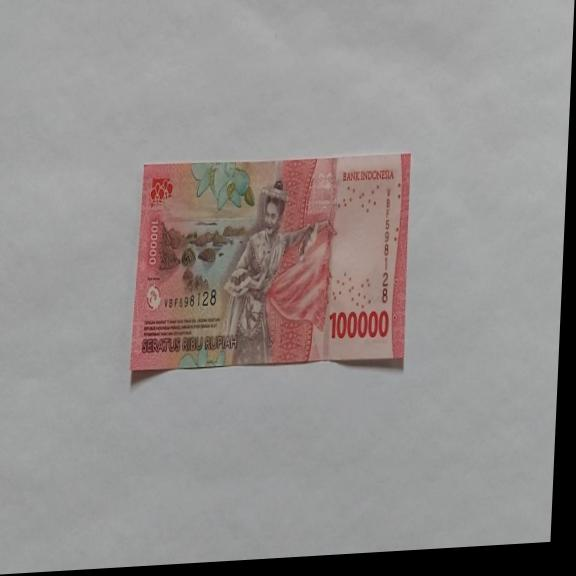Kertas: (129, 147, 413, 379), (328, 306, 390, 343)
